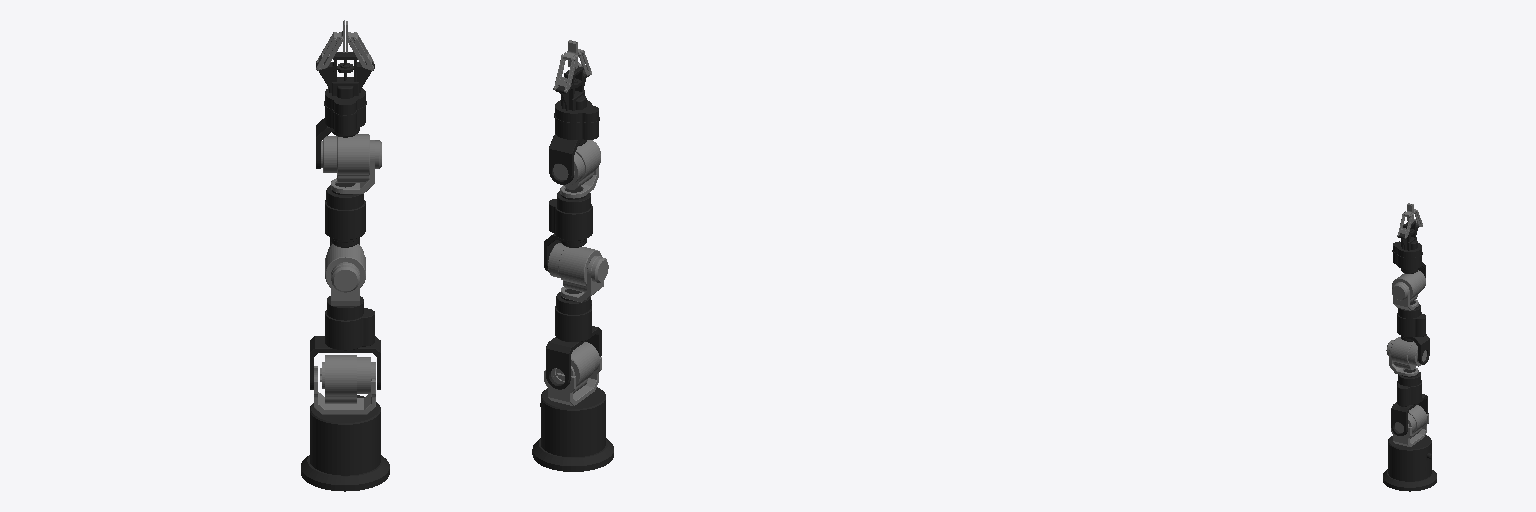
The robot description file, URDF, robot "WPM-2":
<?xml version = "1.0"?>
    <robot name = "WPM-2">
     <!-- material -->
    <material name = "black">
        <color rgba = "0.01 0.01 0.01 1"/>
    </material>
    <material name = "grey">
        <color rgba = "0.2 0.2 0.2 1"/>
    </material>
    <material name = "light_grey">
        <color rgba = "0.5 0.5 0.5 1"/>
    </material>
    <material name = "blue">
        <color rgba = "0.2 0.2 0.6 1"/>
    </material>
    <material name = "green">
        <color rgba = "0.2 0.6 0.2 1"/>
    </material>

    <!-- -->
    <link name = "base_link">
        <visual>
            <geometry>
                <box size = ".1 .1 .0"/>
            </geometry>
            <origin rpy = "0 0 0" xyz = "0 0 0"/>
            <material name = "grey"/>
        </visual>
        <collision>
            <geometry>
                <box size = ".1 .1 .0"/>
            </geometry>
        </collision>
        <inertial>
            <mass value = "10"/>
            <inertia ixx="1.0" ixy="0.0" ixz="0.0" iyy="1.0" iyz="0.0" izz = "1.0"/>
        </inertial>
    </link>

    <!-- ****manipulator ****-->
    <!-- mani_part_1 -->
        <link name = "wpm2_joint_1">
        <visual>
            <geometry>
                <mesh filename="package://wpm2_bringup/meshes/wpm2_joint_1.stl" scale="1 1 1"/>
            </geometry>
            <material name = "grey"/>
            <origin rpy = "1.57 0 1.57" xyz = "-0.1 -0.1 0"/>
        </visual>
    </link>
        <joint name = "base_joint1" type = "fixed">
        <parent link = "base_link"/>
        <child link = "wpm2_joint_1"/>
        <origin xyz = "0 0 0"/>
    </joint>

    <!-- mani_part_2 -->
        <link name = "wpm2_joint_2">
        <visual>
            <geometry>
                <mesh filename="package://wpm2_bringup/meshes/wpm2_joint_2.stl" scale="1 1 1"/>
            </geometry>
            <material name = "light_grey"/>
            <origin rpy = "-1.57 0 1.57" xyz = "0.135 -0.07 0.1285"/>
        </visual>
    </link>
        <joint name = "joint1_joint2" type = "revolute">
        <parent link = "wpm2_joint_1"/>
        <child link = "wpm2_joint_2"/>
        <axis xyz = "0 0 1"/>
        <origin xyz = "0 0 0.1585"/>
        <limit effort = "1000.0" lower="-3.14" upper="3.14" velocity="0.5"/>
    </joint>

    <!-- mani_part_3 -->
    <link name = "wpm2_joint_3">
        <visual>
            <geometry>
                <mesh filename="package://wpm2_bringup/meshes/wpm2_joint_3.stl" scale="1 1 1"/>
            </geometry>
            <material name = "grey"/>
            <origin rpy = "1.57 0 1.57" xyz = "-0.12 -0.08 -0.048"/>
        </visual>
    </link>
        <joint name = "joint2_joint3" type = "revolute">
        <parent link = "wpm2_joint_2"/>
        <child link = "wpm2_joint_3"/>
        <axis xyz = "0 -1 0"/>
        <origin xyz = "0 0 0.0825"/>
        <limit effort = "1000.0" lower="-3.14" upper="3.14" velocity="0.5"/>
    </joint>

    <!-- mani_part_4 -->
    <link name = "wpm2_joint_4">
        <visual>
            <geometry>
                <mesh filename="package://wpm2_bringup/meshes/wpm2_joint_4.stl" scale="1 1 1"/>
            </geometry>
            <material name = "light_grey"/>
            <origin rpy = "0 1.57 0" xyz = "-0.116 -0.057 0.122"/>
        </visual>
    </link>
        <joint name = "joint3_joint4" type = "revolute">
        <parent link = "wpm2_joint_3"/>
        <child link = "wpm2_joint_4"/>
        <axis xyz = "0 0 1"/>
        <origin xyz = "0 0 0.197"/>
        <limit effort = "1000.0" lower="-3.14" upper="3.14" velocity="0.5"/>
    </joint>

    <!-- mani_part_5 -->
    <link name = "wpm2_joint_5">
        <visual>
            <geometry>
                <mesh filename="package://wpm2_bringup/meshes/wpm2_joint_5.stl" scale="1 1 1"/>
            </geometry>
            <material name = "grey"/>
            <origin rpy = "0 -1.57 0" xyz = "0.107 -0.053 -0.033"/>
        </visual>
    </link>
        <joint name = "joint4_joint5" type = "revolute">
        <parent link = "wpm2_joint_4"/>
        <child link = "wpm2_joint_5"/>
        <axis xyz = "1 0 0"/>
        <origin xyz = "0 0 0.076"/>
        <limit effort = "1000.0" lower="-3.14" upper="3.14" velocity="0.5"/>
    </joint>

    <!-- mani_part_6 -->
    <link name = "wpm2_joint_6">
        <visual>
            <geometry>
                <mesh filename="package://wpm2_bringup/meshes/wpm2_joint_4.stl" scale="1 1 1"/>
            </geometry>
            <material name = "light_grey"/>
            <origin rpy = "0 1.57 1.57" xyz = "0.055 -0.115 0.122"/>
        </visual>
    </link>
        <joint name = "joint5_joint6" type = "revolute">
        <parent link = "wpm2_joint_5"/>
        <child link = "wpm2_joint_6"/>
        <axis xyz = "0 0 1"/>
        <origin xyz = "0 0 0.197"/>
        <limit effort = "1000.0" lower="-3.14" upper="3.14" velocity="0.5"/>
    </joint>

    <!-- mani_palm -->
    <link name = "wpm2_palm">
        <visual>
            <geometry>
                <mesh filename="package://wpm2_bringup/meshes/wpm2_palm.stl" scale="1 1 1"/>
            </geometry>
            <material name = "grey"/>
            <origin rpy = "0 -1.57 1.57" xyz = "0.0566 0.0985 -0.034"/>
        </visual>
    </link>
        <joint name = "joint6_palm" type = "revolute">
        <parent link = "wpm2_joint_6"/>
        <child link = "wpm2_palm"/>
        <axis xyz = "0 1 0"/>
        <origin xyz = "0 0 0.076"/>
        <limit effort = "1000.0" lower="-3.14" upper="3.14" velocity="0.5"/>
    </joint>

    <!-- finger -->
        <link name = "wpm2_left_finger">
        <visual>
            <geometry>
                <mesh filename="package://wpm2_bringup/meshes/wpm2_finger.stl" scale="0.001 0.001 0.001"/>
            </geometry>
                <material name = "light_grey"/>
            <origin rpy = "1.57 0 -1.57" xyz = ".021 0.005 -0.005"/>
        </visual>
    </link>
    <joint name = "wpm2_palm_finger" type = "revolute">
        <parent link = "wpm2_palm"/>
        <child link = "wpm2_left_finger"/>
        <origin xyz = "0 0.06 0.219"/>
        <axis xyz = "-1 0 0"/>
        <limit effort = "1000.0" lower="0" upper="1.0" velocity="0.5"/>
    </joint>

        <link name = "wpm2_right_finger">
        <visual>
            <geometry>
                <mesh filename="package://wpm2_bringup/meshes/wpm2_finger.stl" scale="0.001 0.001 0.001"/>
            </geometry>
                <material name = "light_grey"/>
            <origin rpy = "1.57 0 1.57" xyz = "-0.0175 -0.005 -0.005"/>
        </visual>
    </link>
    <joint name = "wpm2_palm_right_finger" type = "revolute">
        <parent link = "wpm2_palm"/>
        <child link = "wpm2_right_finger"/>
        <origin xyz = "0 -0.06 0.219"/>
        <axis xyz = "1 0 0"/>
        <limit effort = "1000.0" lower="0" upper="1.0" velocity="0.5"/>
        <mimic joint = "wpm2_palm_finger" multiplier = "1" offset = "0"/>
    </joint>
    <!-- *****************-->


    <!-- ****** Kinect2 ****** -->
    <link name = "kinect2_dock">
    <visual>
    <geometry>
        <!-- <box size=".01 .25 .07"/>-->
        <box size="0 0 0"/>
    </geometry>
    <origin rpy = "0 0 0" xyz = "0 0 0"/>
    <material name = "red"/>
    </visual>
    </link>
    <joint name="kinect_height" type="prismatic">
        <parent link="base_link"/>
        <child link="kinect2_dock"/>
        <limit effort="1000.0" lower="0.9" upper="1.7" velocity="0.5"/>
        <origin xyz="-1.5 0.5 0" rpy="0 -1.5707963 0"/>
    </joint>

    <link name = "kinect2_ir_optical_frame">
    <visual>
    <geometry>
        <!-- <box size=".25 .04 .07"/>-->
        <box size="0 0 0"/>
    </geometry>
    <origin xyz = "0 0 0" rpy = "0 0 0"/>
    <material name = "blue"/>
    </visual>
    </link>

    <joint name="kinect_pitch" type="revolute">
        <axis xyz="1 0 0"/>
        <limit effort="1000.0" lower="-1.57" upper="1.57" velocity="0.5"/>
        <origin xyz="0 0 0" rpy="3.1415926 0 -1.5707963" /> <!--pos-->
        <parent link="kinect2_dock" />
        <child link="kinect2_ir_optical_frame" />
    </joint>

    <link name = "kinect2_rgb_optical_frame">
    <visual>
    <geometry>
        <box size="0 0 0"/>
    </geometry>
    <origin rpy = "0 0 0" xyz = "0 0 0"/>
    <material name = "blue"/>
    </visual>
    </link>
    <joint name="kinect_hd_joint" type="fixed">
        <origin xyz="0 0 0" rpy="0 0 0" /> <!--pos-->
        <parent link="kinect2_ir_optical_frame" />
        <child link="kinect2_rgb_optical_frame" />
    </joint>

    </robot>

--- Render facts (derived) ---
3 views of the same robot in one strip: view 1: azimuth 90°, elevation 25°; view 2: azimuth 150°, elevation 25°; view 3: azimuth 330°, elevation 25° (orthographic).
Model WPM-2 with 13 links and 12 joints (9 revolute, 1 prismatic, 2 fixed), rooted at base_link, posed all joints at 0 but 1 set to mid-range because 0 is outside their limits (kinect_height = 1.3).
Visible links, largest first — view 1: wpm2_joint_1, wpm2_palm, wpm2_joint_2, wpm2_joint_3, wpm2_joint_6, wpm2_joint_5, wpm2_joint_4, wpm2_left_finger, wpm2_right_finger; view 2: wpm2_joint_1, wpm2_palm, wpm2_joint_3, wpm2_joint_4, wpm2_joint_5, wpm2_joint_2, wpm2_joint_6, wpm2_left_finger; view 3: wpm2_joint_1, wpm2_joint_3, wpm2_joint_5, wpm2_palm, wpm2_joint_4, wpm2_joint_6, wpm2_joint_2.
Boxes of the visible links, x1=… form: wpm2_joint_1: x1=301, y1=395, x2=389, y2=491; wpm2_palm: x1=316, y1=52, x2=374, y2=168; wpm2_joint_2: x1=314, y1=355, x2=375, y2=414; wpm2_joint_3: x1=310, y1=296, x2=380, y2=389; wpm2_joint_6: x1=321, y1=134, x2=381, y2=193; wpm2_joint_5: x1=325, y1=183, x2=365, y2=247; wpm2_joint_4: x1=325, y1=244, x2=365, y2=305; wpm2_left_finger: x1=316, y1=20, x2=344, y2=70; wpm2_right_finger: x1=346, y1=21, x2=373, y2=70; wpm2_joint_1: x1=532, y1=387, x2=613, y2=471; wpm2_palm: x1=549, y1=66, x2=599, y2=184; wpm2_joint_3: x1=546, y1=289, x2=601, y2=389; wpm2_joint_4: x1=548, y1=243, x2=608, y2=302; wpm2_joint_5: x1=544, y1=187, x2=592, y2=271; wpm2_joint_2: x1=544, y1=342, x2=601, y2=405; wpm2_joint_6: x1=553, y1=140, x2=600, y2=198; wpm2_left_finger: x1=553, y1=41, x2=577, y2=92; wpm2_joint_1: x1=1383, y1=435, x2=1436, y2=491; wpm2_joint_3: x1=1391, y1=369, x2=1428, y2=435; wpm2_joint_5: x1=1397, y1=301, x2=1429, y2=364; wpm2_palm: x1=1392, y1=221, x2=1425, y2=277; wpm2_joint_4: x1=1386, y1=337, x2=1426, y2=376; wpm2_joint_6: x1=1392, y1=270, x2=1425, y2=310; wpm2_joint_2: x1=1391, y1=405, x2=1428, y2=446.
Bounding box of the posed robot: 1.6 × 0.6 × 1.3 m (x, y, z).
9 mesh visuals loaded from 7 distinct referenced files (7 binary STL).